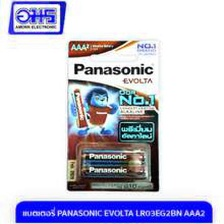battery: (78, 161, 150, 179), (79, 148, 149, 164)
book: (66, 37, 163, 193)
